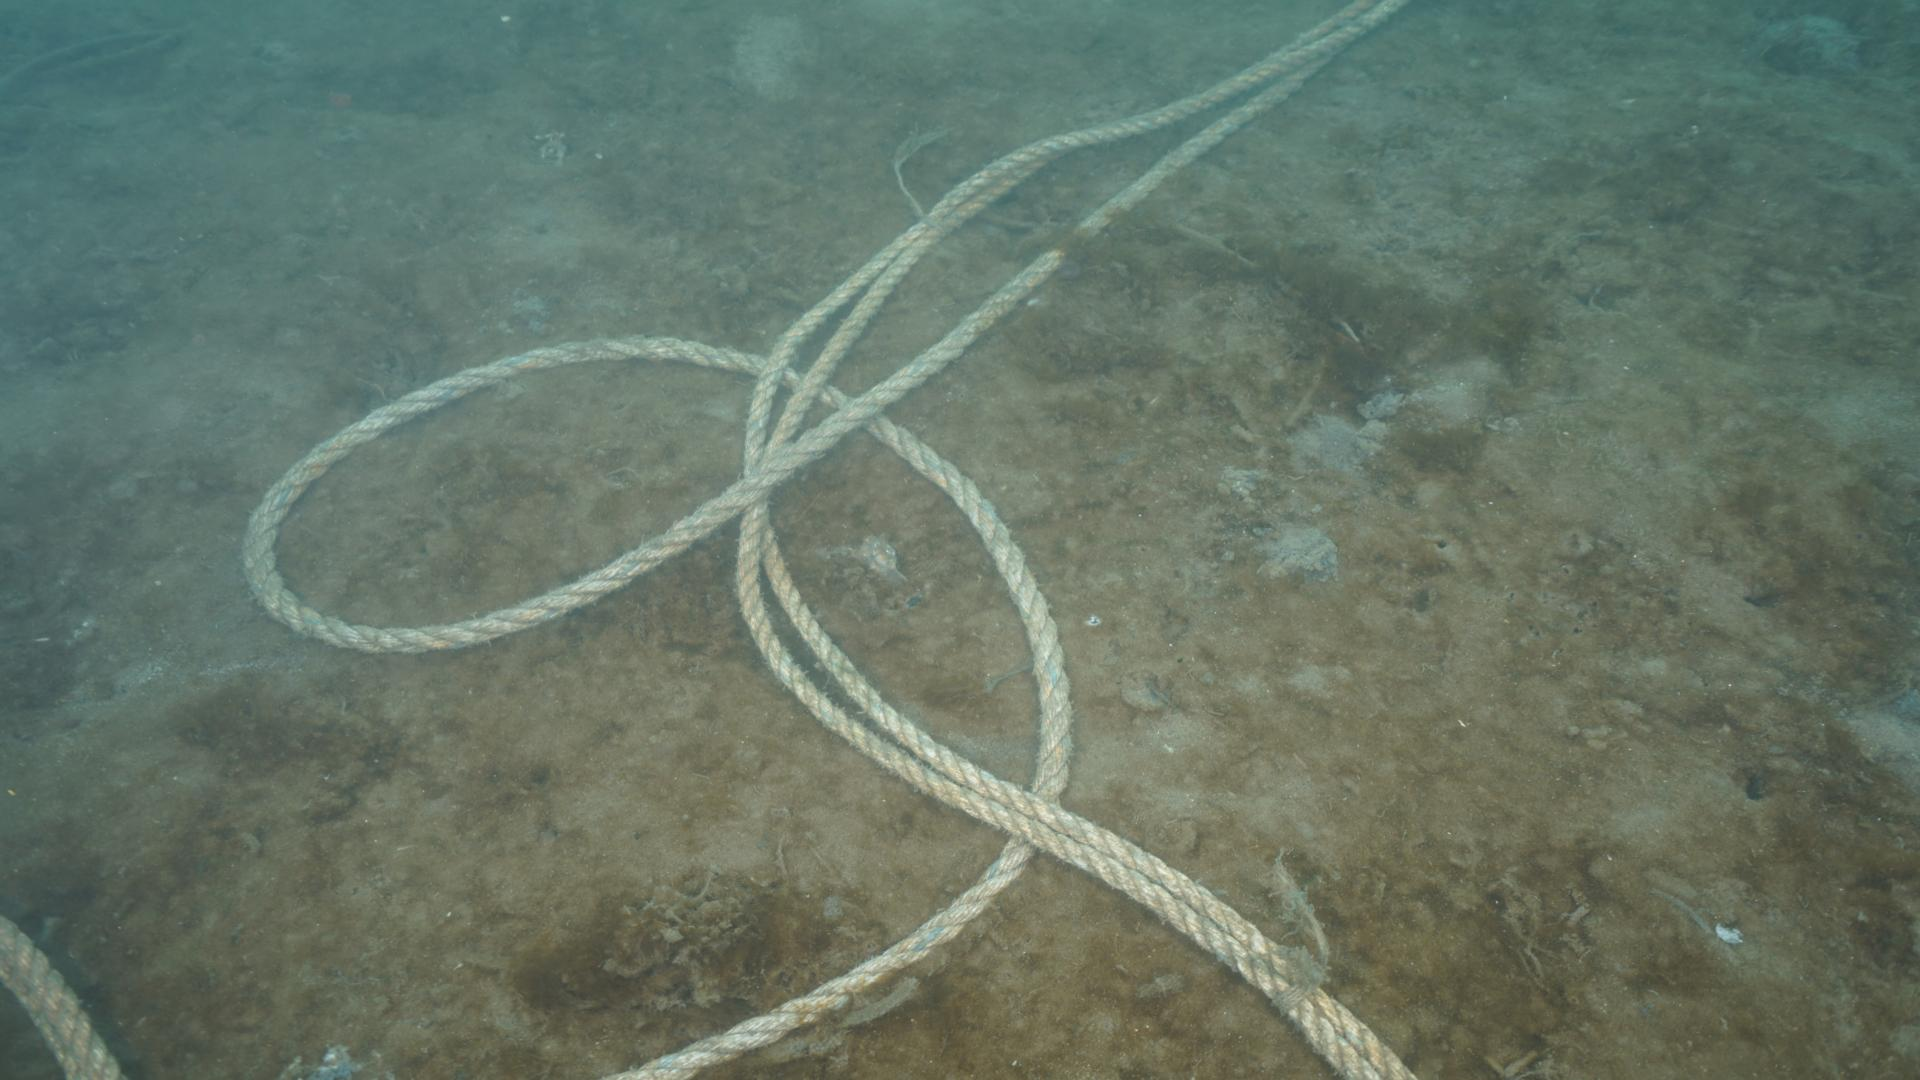bundle of ropes: (0, 4, 1420, 1080)
